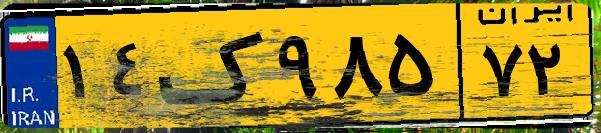1: (57, 26, 110, 100)
2: (525, 38, 570, 115)
4: (110, 28, 158, 98)
5: (385, 28, 445, 110)
7: (475, 38, 525, 113)
8: (330, 28, 385, 110)
9: (270, 28, 330, 110)
ک: (158, 12, 270, 120)
